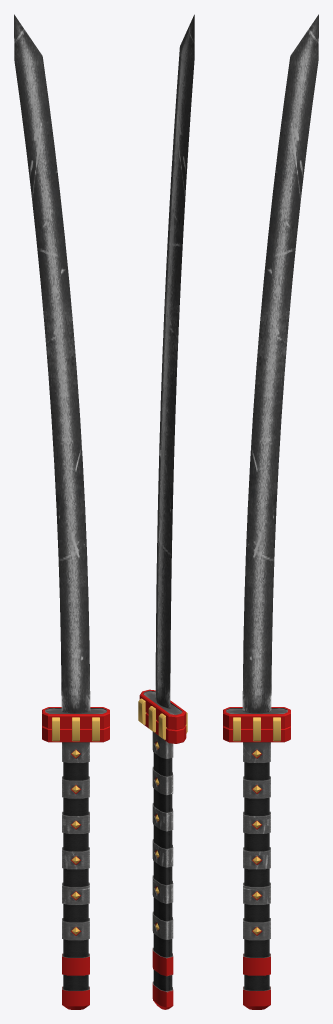
Rendered from katana.glb.
The picture shows the model from 3 angles, left to right: view 1: azimuth 90°, elevation 25°; view 2: azimuth 210°, elevation 25°; view 3: azimuth 270°, elevation 25°; orthographic projection. The views are drawn at different scales.
Parts seen in each view (by area): view 1: Cube.006; view 2: Cube.006; view 3: Cube.006.
Part boxes in pixels (<box>): Cube.006: <box>14,14,109,1009</box>; Cube.006: <box>138,14,194,1009</box>; Cube.006: <box>223,14,318,1009</box>.
Bounding box in the file's own units: 7.12 × 275 × 24.08.
1 material, 1 textured.
